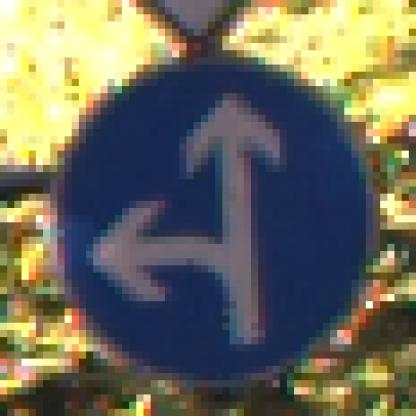Straight or Left: (44, 44, 381, 381)
